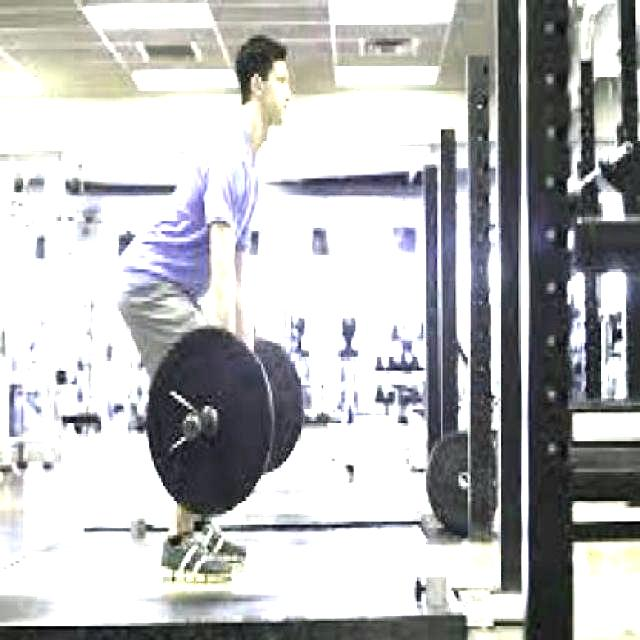barbell: (143, 322, 280, 519)
